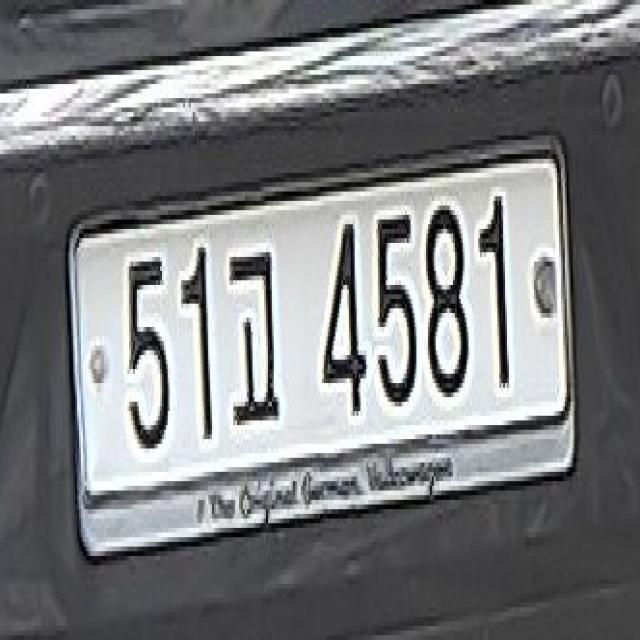1: (178, 222, 222, 460), (478, 180, 517, 402)
4: (317, 209, 375, 428)
5: (119, 239, 176, 458), (378, 201, 418, 411)
8: (423, 198, 474, 412)
go: (228, 235, 298, 434)
license_plate: (65, 132, 572, 568)
